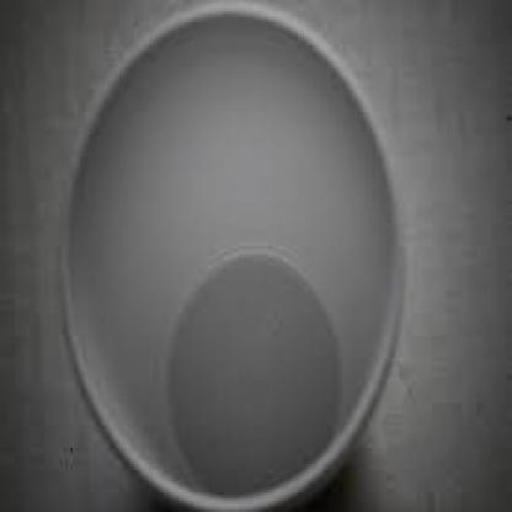paper: (56, 2, 404, 510)
